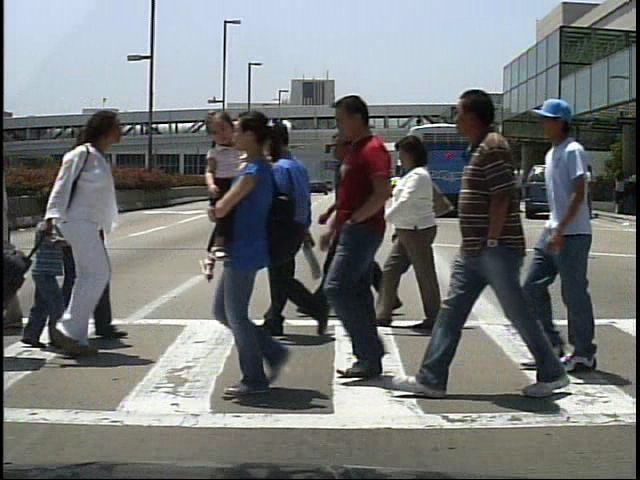person: (444, 84, 558, 417), (29, 113, 140, 362), (331, 95, 418, 381), (241, 122, 341, 346), (530, 101, 607, 377), (388, 137, 467, 337), (319, 130, 392, 322), (57, 113, 111, 360), (9, 196, 67, 354), (582, 168, 602, 218), (495, 165, 513, 218), (507, 166, 526, 215)
